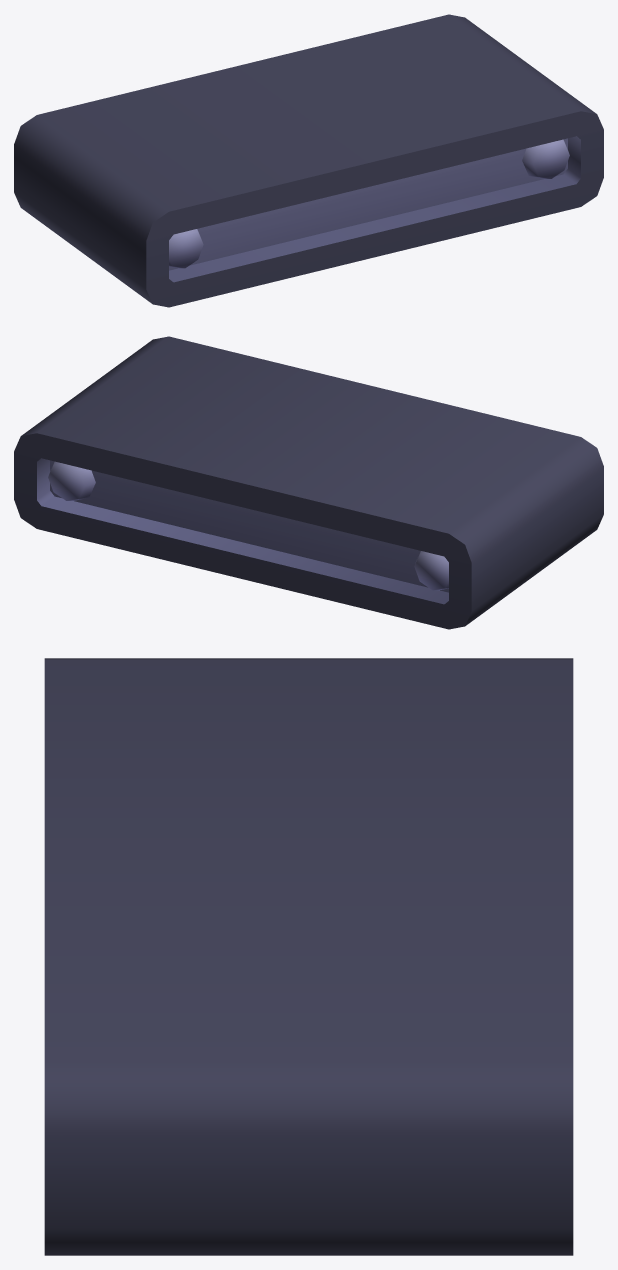
Rendered from kenney-conveyor-conveyor-long.glb.
The picture shows the model from 3 angles, top to bottom: view 1: azimuth 30°, elevation 25°; view 2: azimuth 150°, elevation 25°; view 3: azimuth 270°, elevation 25°; orthographic projection. The views are drawn at different scales.
Visible parts, largest first — view 1: conveyor-long; view 2: conveyor-long; view 3: conveyor-long.
Part boxes in pixels (left/top/right/bottom): conveyor-long: left=14, top=14, right=603, bottom=307; conveyor-long: left=14, top=336, right=603, bottom=629; conveyor-long: left=44, top=658, right=573, bottom=1255.
Bounding box in the file's own units: 2 × 0.3999 × 1.
Materials: 1 (1 with a texture image).
